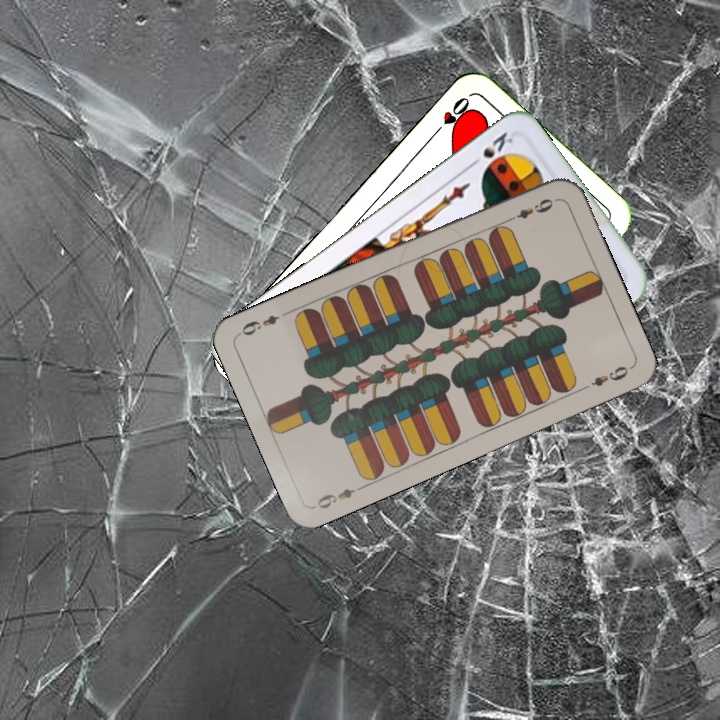E9: (313, 481, 367, 512), (503, 194, 556, 225)
HO: (428, 93, 475, 140)
SK: (465, 127, 516, 170)
